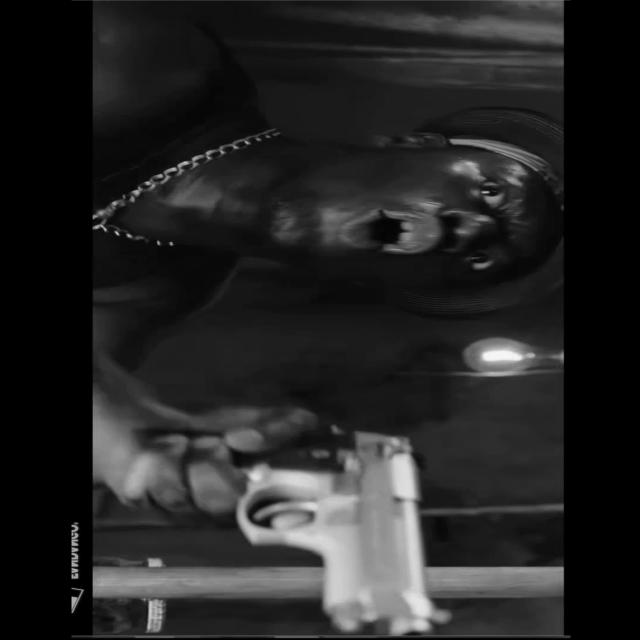weapons: (196, 418, 464, 634)
